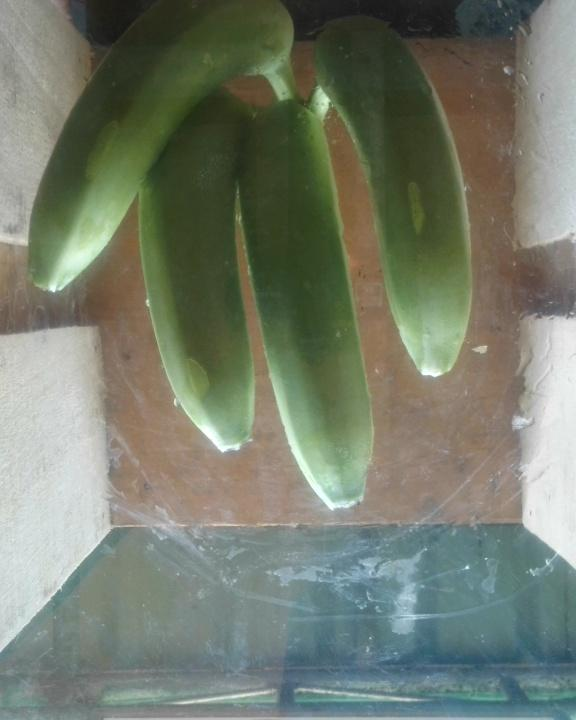SPOT: (1, 1, 485, 527)
